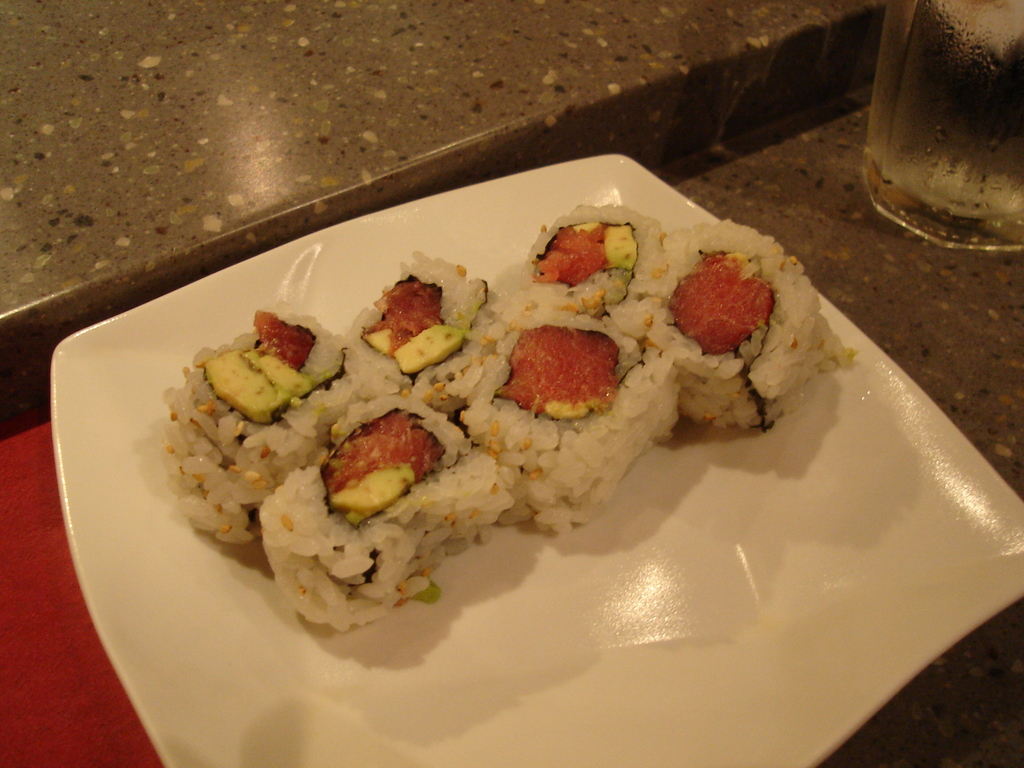sushi: (172, 200, 854, 630), (262, 388, 470, 614)
